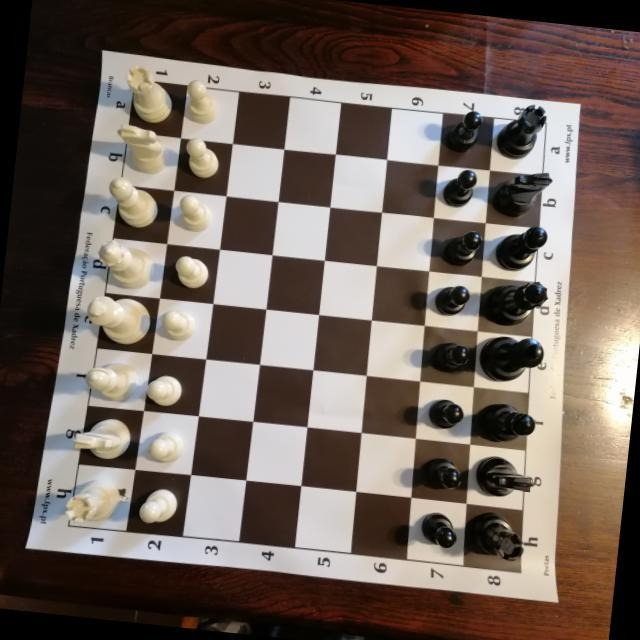black-bishop: (493, 222, 548, 274), (478, 401, 536, 445)
black-king: (477, 332, 545, 386)
black-knight: (493, 167, 554, 221), (474, 453, 536, 499)
black-pawn: (447, 109, 483, 155), (418, 510, 459, 550), (442, 167, 478, 209), (447, 228, 484, 268), (425, 456, 463, 491), (434, 282, 470, 317), (434, 341, 470, 375), (428, 397, 464, 430)
black-queen: (486, 277, 549, 329)
black-rook: (496, 101, 548, 163), (470, 510, 526, 562)
white-bishop: (103, 175, 160, 229), (83, 360, 140, 403)
white-king: (83, 293, 152, 347)
white-knight: (112, 124, 172, 176), (69, 414, 132, 461)
white-pawn: (183, 78, 220, 126), (182, 136, 221, 180), (138, 486, 178, 526), (177, 194, 215, 234), (144, 371, 184, 408), (172, 254, 211, 290), (159, 307, 196, 343), (149, 428, 185, 464)
white-queen: (94, 239, 158, 291)
white-rook: (120, 63, 175, 124), (63, 476, 121, 528)
